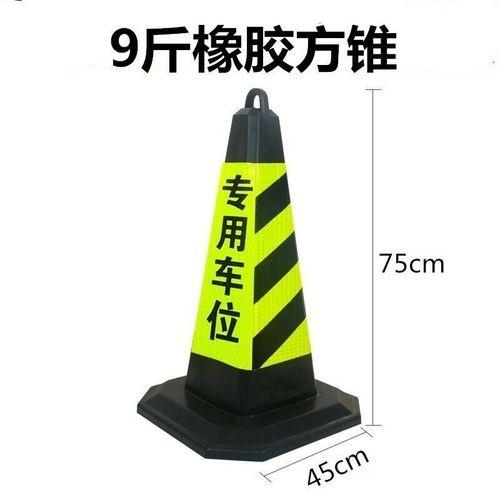cone_barrel: (149, 92, 335, 452)
